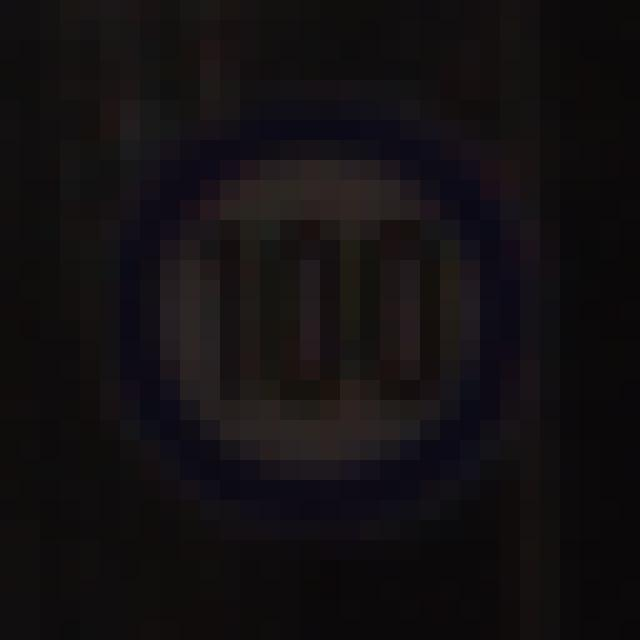SPEED LIMIT 100: (106, 99, 528, 528)
